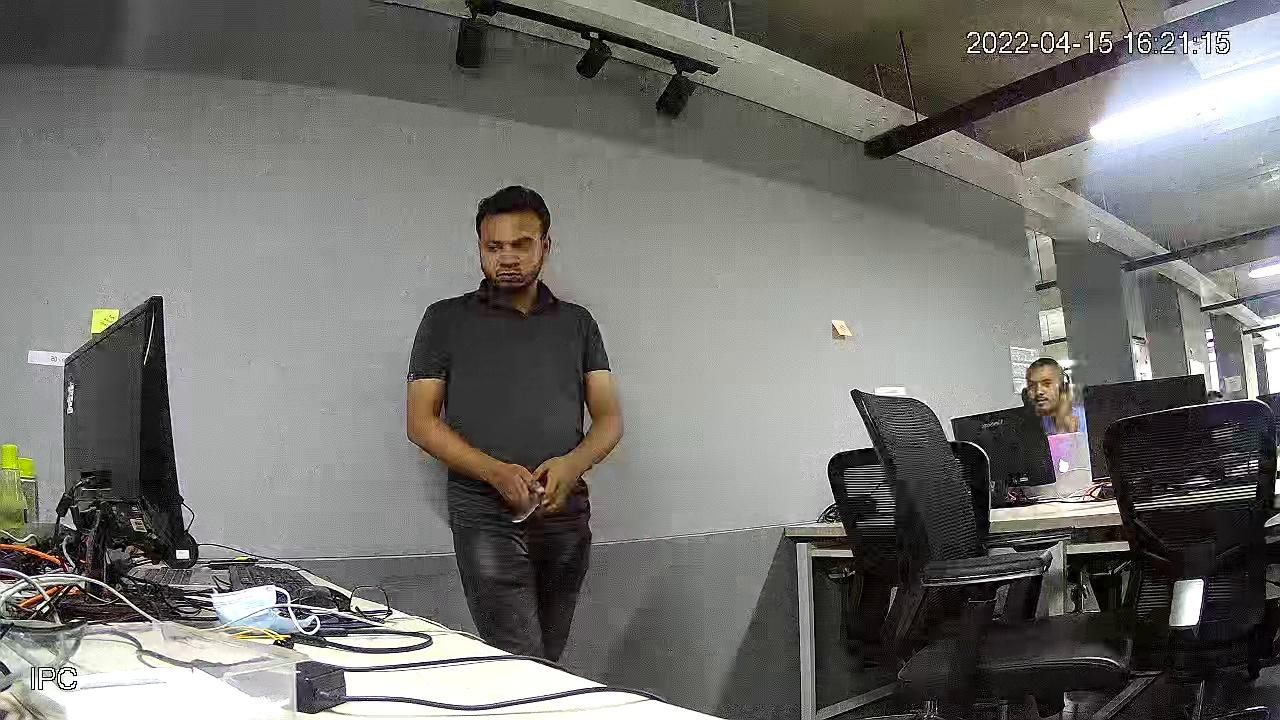knives: (500, 494, 548, 530)
